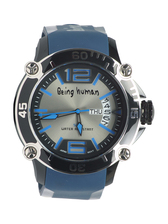watch: (17, 21, 157, 210)
